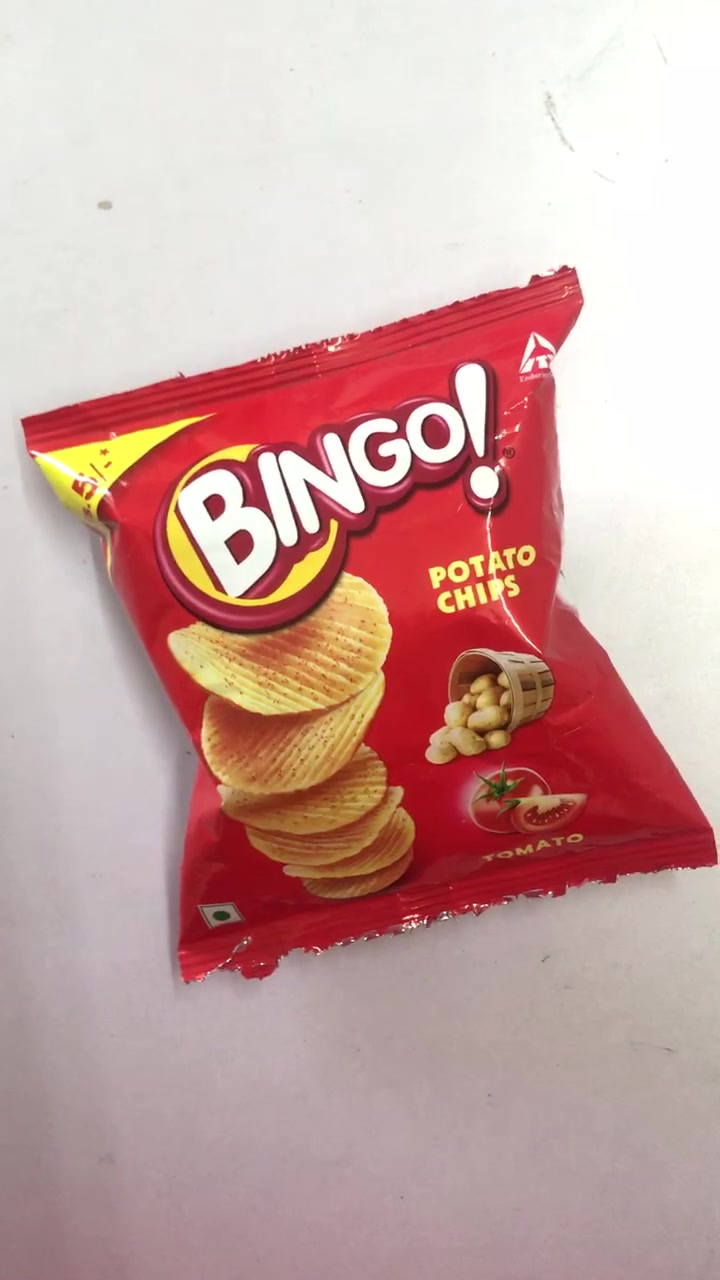Bingo: (28, 309, 720, 954)
